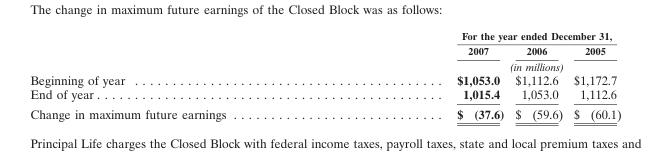table: (29, 29, 620, 120)
table column: (29, 29, 340, 120), (340, 29, 509, 120), (509, 29, 567, 120), (567, 29, 620, 120)
table column header: (29, 29, 620, 72)
table row: (29, 86, 620, 103), (29, 103, 620, 120), (29, 43, 620, 58), (29, 29, 620, 43), (29, 58, 620, 72), (29, 72, 620, 86)
table spanning cell: (340, 29, 620, 43), (340, 58, 620, 72)
